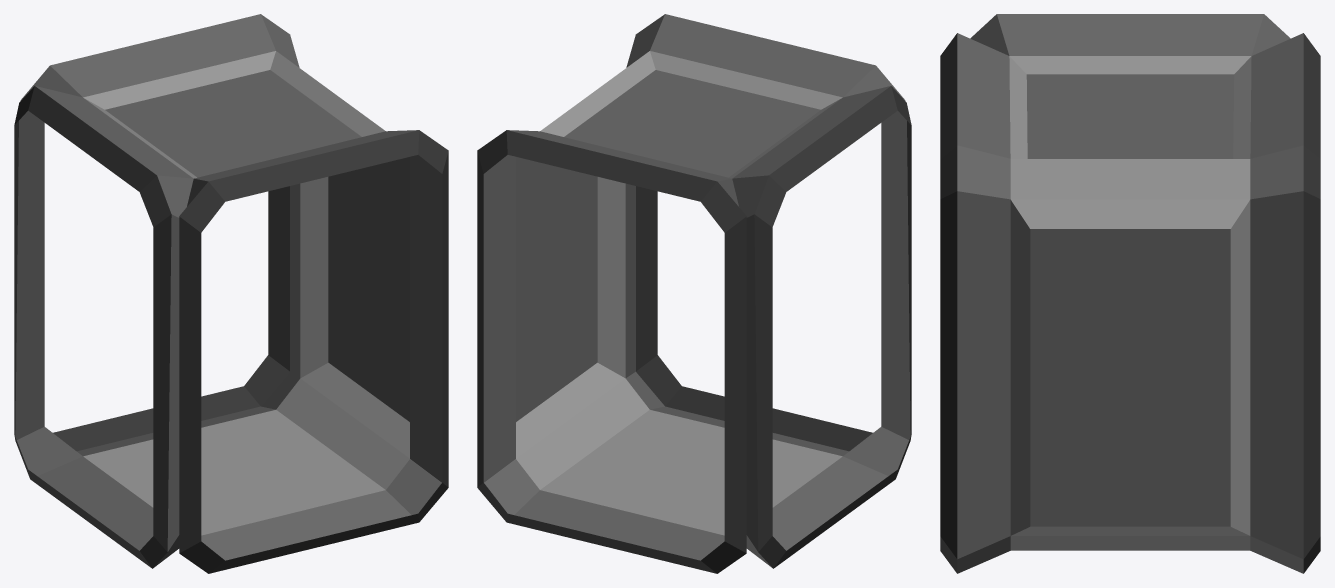
The model's file is Building_Tunnel_T.fbx.
3 views of the same model, side by side, from view 1: azimuth 30°, elevation 25°; view 2: azimuth 150°, elevation 25°; view 3: azimuth 270°, elevation 25° (orthographic). The views are drawn at different scales.
Visible parts, largest first — view 1: Building_Tunnel_T; view 2: Building_Tunnel_T; view 3: Building_Tunnel_T.
Part boxes in pixels (x1,y1,x2,y2): Building_Tunnel_T: (14, 14, 448, 573); Building_Tunnel_T: (477, 14, 911, 573); Building_Tunnel_T: (940, 14, 1320, 573).
Size of the model in its own units: 193 by 249 by 200.
